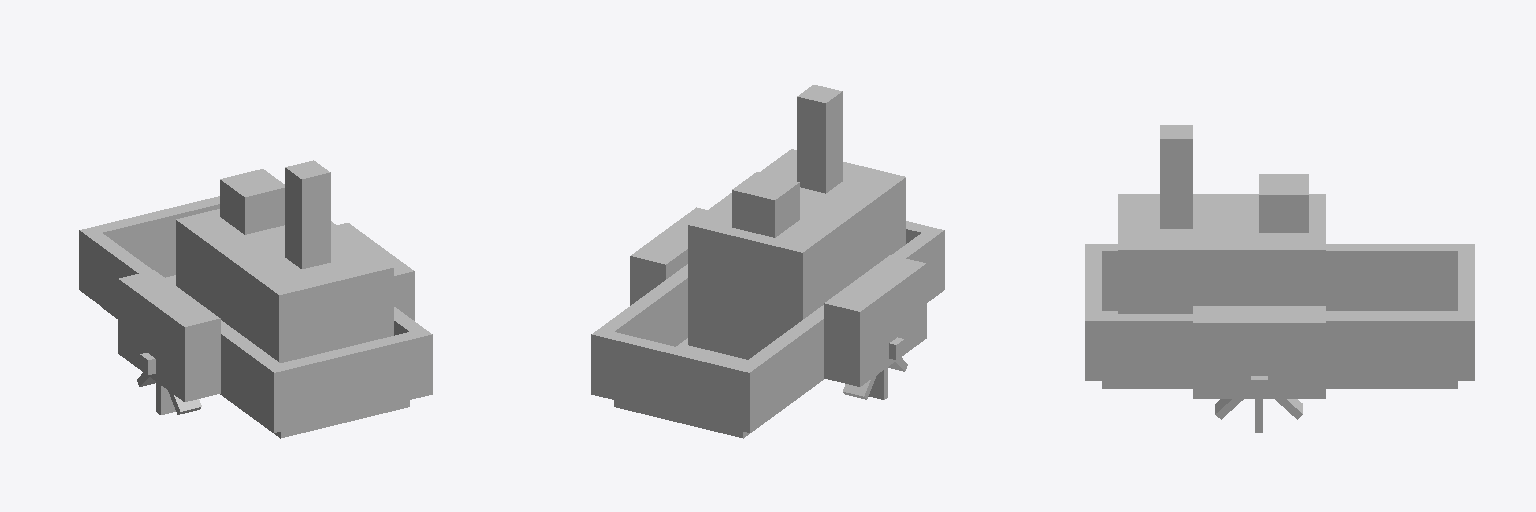
File: boat.obj
3 views of the same model, side by side, from view 1: azimuth 30°, elevation 25°; view 2: azimuth 150°, elevation 25°; view 3: azimuth 270°, elevation 25° (orthographic).
Parts seen in each view (by area): view 1: Cube_Cube.002, Cube.003_Cube.005; view 2: Cube_Cube.002, Cube.003_Cube.005; view 3: Cube_Cube.002, Cube.003_Cube.005.
Part boxes in pixels (bbox=[...]): Cube_Cube.002: bbox=[79, 160, 432, 438]; Cube.003_Cube.005: bbox=[137, 353, 201, 414]; Cube_Cube.002: bbox=[591, 85, 944, 438]; Cube.003_Cube.005: bbox=[843, 337, 907, 399]; Cube_Cube.002: bbox=[1085, 125, 1474, 398]; Cube.003_Cube.005: bbox=[1215, 376, 1302, 432].
Bounding box in the file's own units: 2.12 × 2.06 × 2.94.